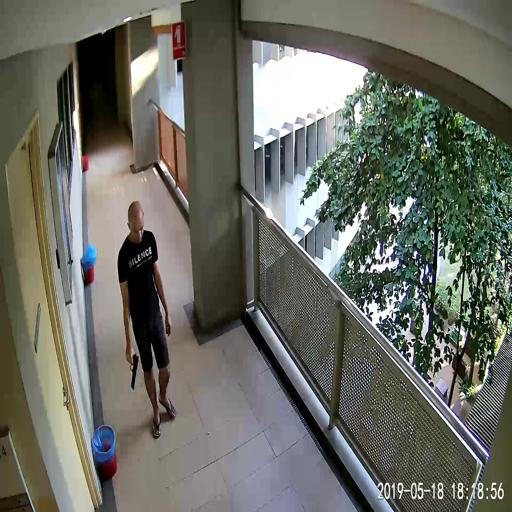pistol: (125, 349, 138, 390)
